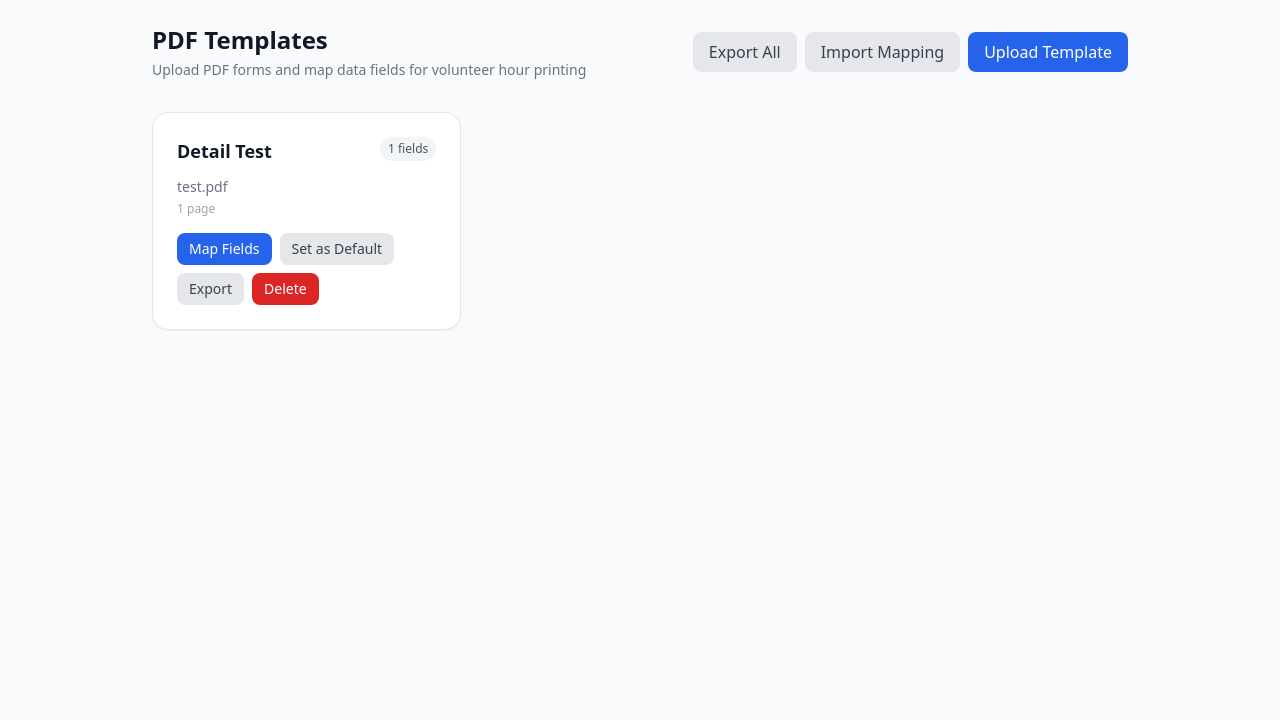
Test: PdfTemplatesPage › field mapper modal › should display detail table fields in mapped fields list
This screenshot has width=1280, height=720.
Step 1. Click the button "Map Fields" → (224, 249), box [177, 233, 272, 265]
(page scrolled)
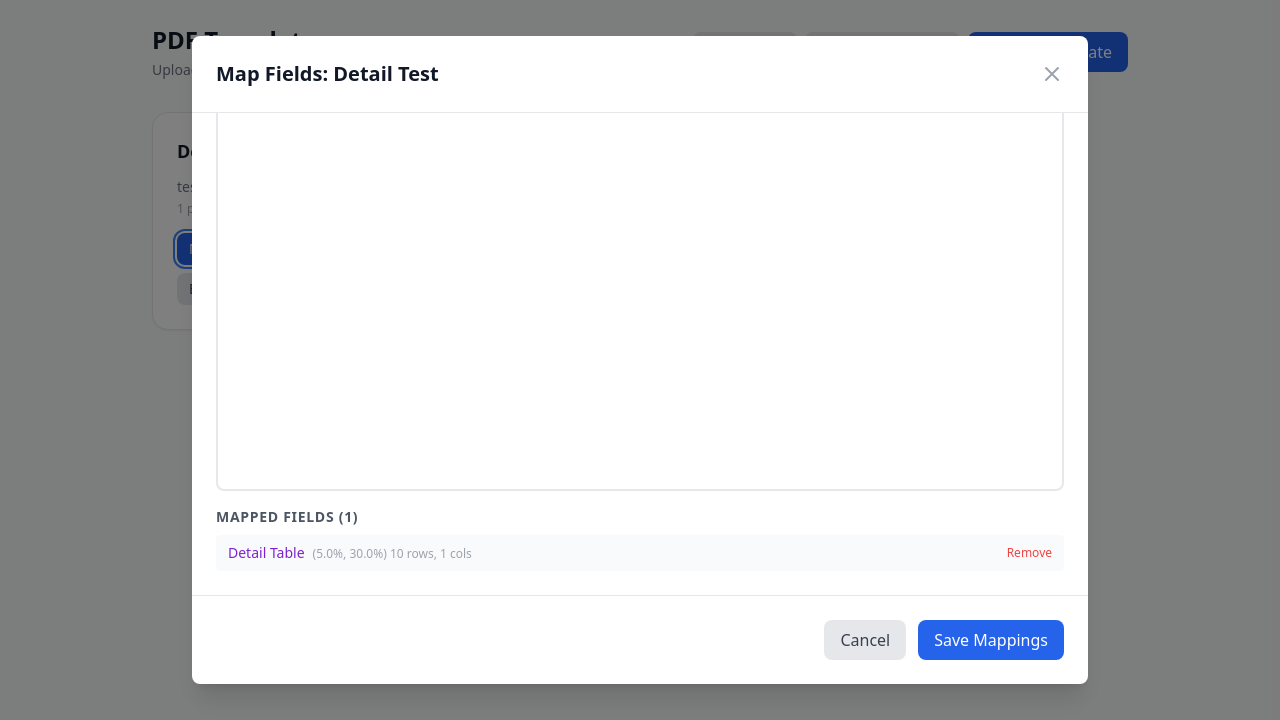
Check: the heading "Mapped Fields (1)" is shown, box [216, 507, 358, 526]
Check: the text "Detail Table" is shown, box [228, 543, 304, 562]
